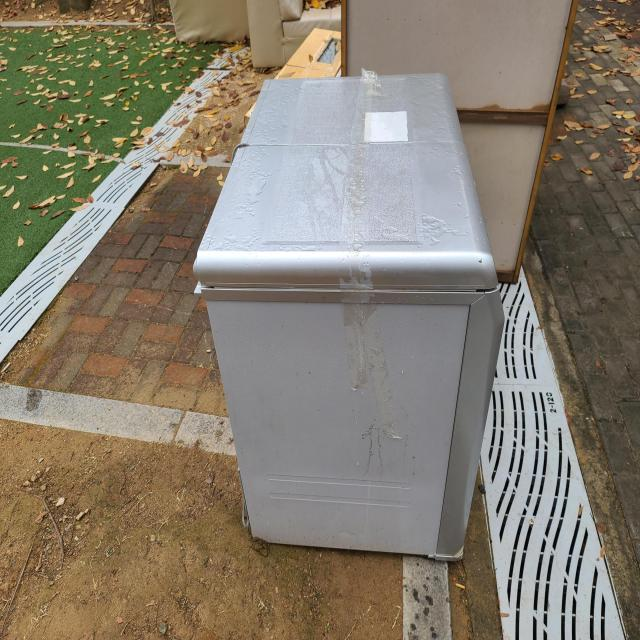refrigerator: (193, 66, 507, 564)
